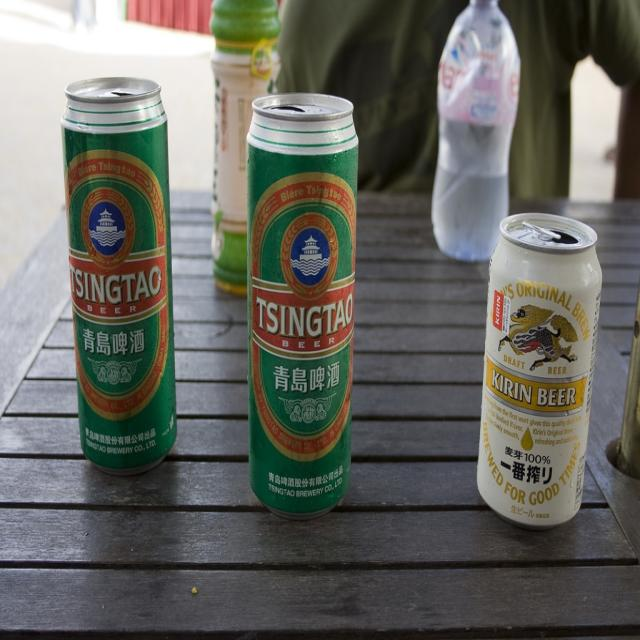tsingtao: (250, 171, 357, 462), (66, 150, 171, 424)
